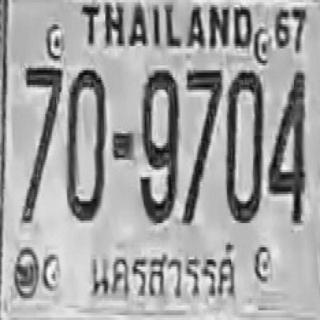N00: (66, 68, 105, 221), (225, 69, 263, 222)
N04: (267, 68, 306, 223)
N07: (21, 66, 62, 223), (182, 67, 222, 224)
N09: (139, 68, 179, 223)
P31: (86, 241, 242, 309)
